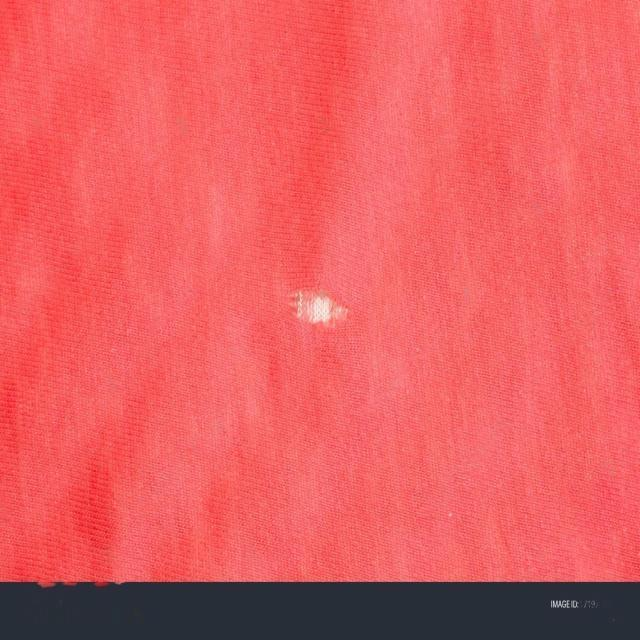Hole: (291, 289, 349, 328)
